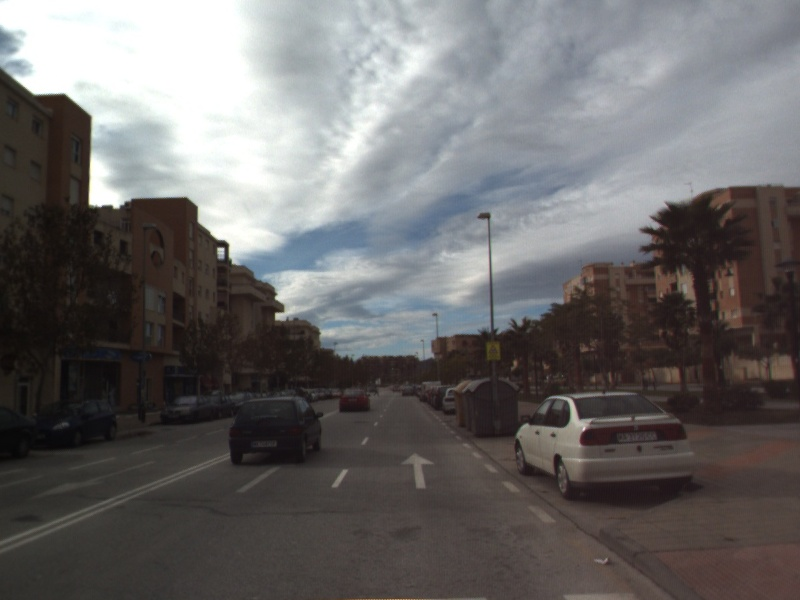STRAIGHT: (398, 451, 437, 490)
